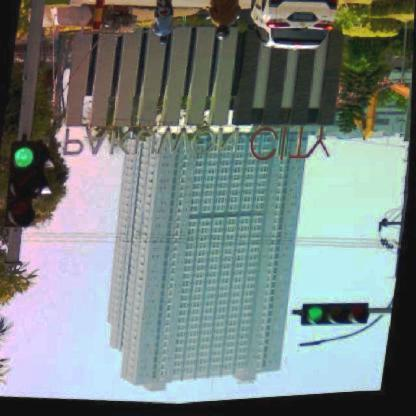Traffic Light -Green-: (3, 136, 42, 230), (301, 301, 374, 337)
